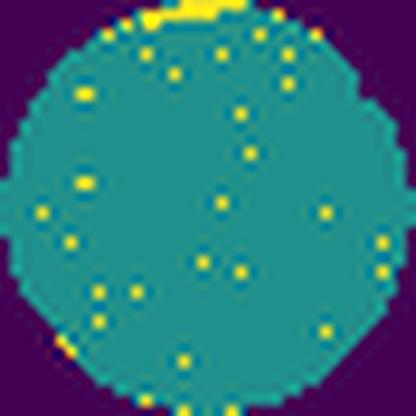Edge-Loc: (137, 0, 254, 34)
